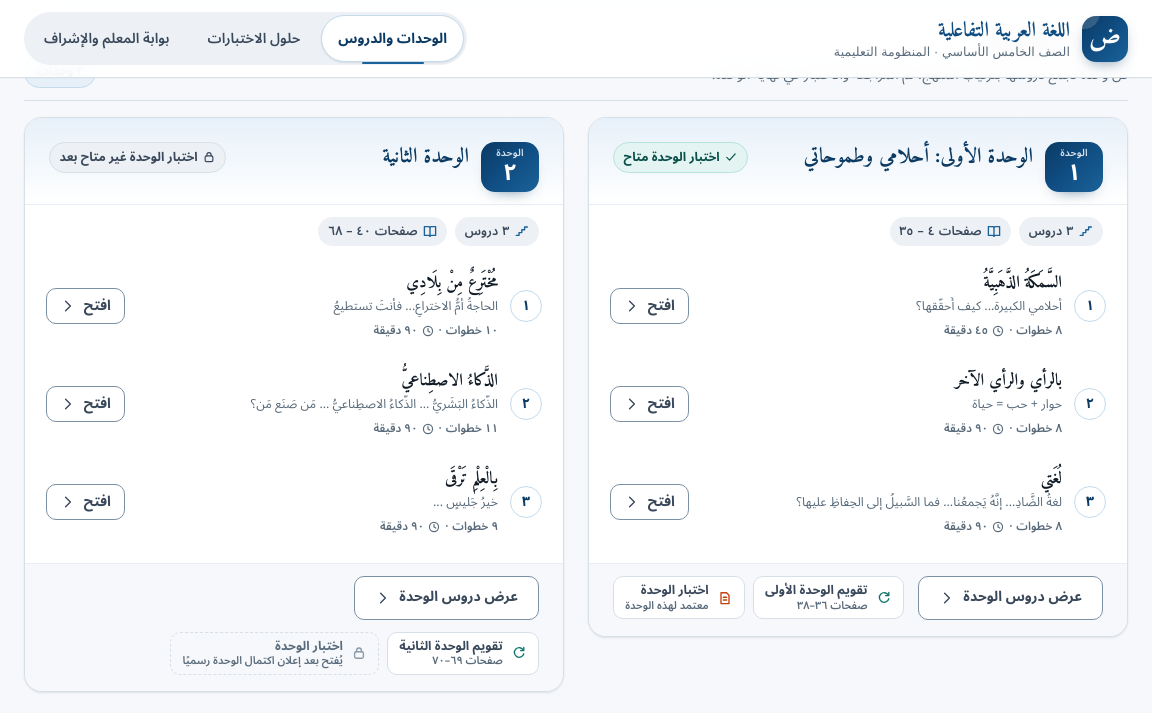
Test: Phase 1 — home page lesson entry › opens the exact lesson when its row button is pressed from the home page
(page scrolled)
Expected: the navigation bar "خطوات الدرس" is not shown
Note: Press the second lesson's row button in the first unit panel.
What coordinates should you click on to do the following:
click the button with aria-label "افتح الدرس 2: بالرأي والرأي الآخر"
I would click on:
 (649, 404)
Its box is x1=610 y1=386 x2=689 y2=422.
(page scrolled)
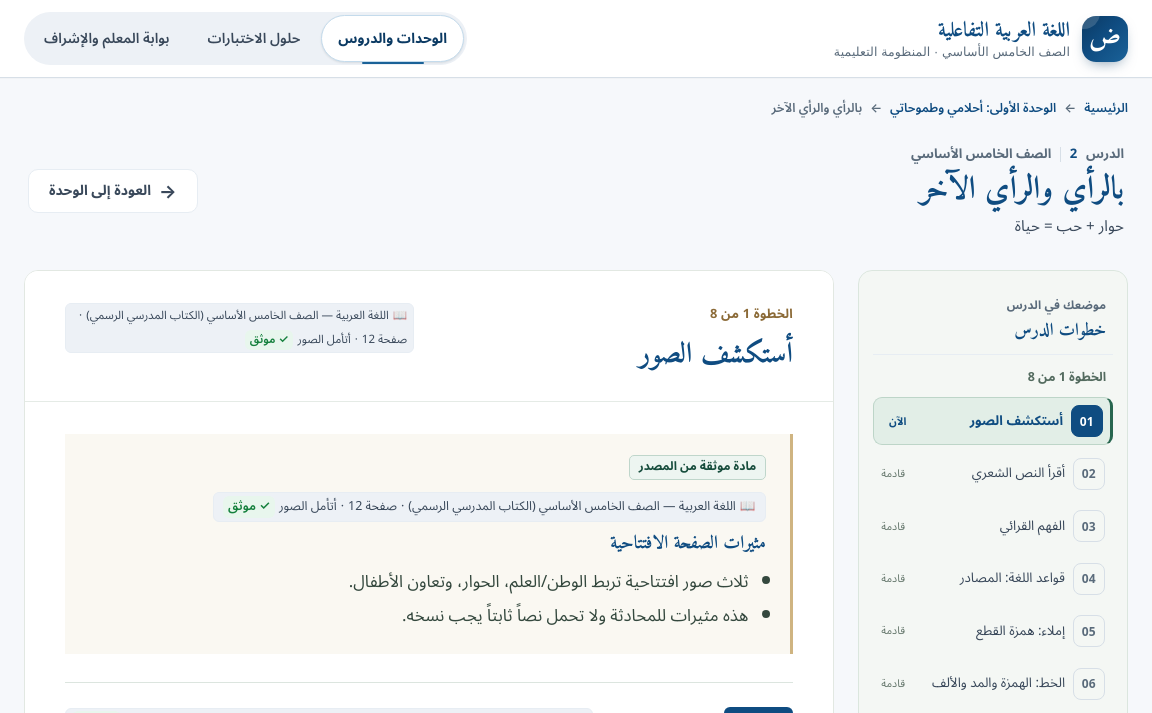
Expected: the heading "بالرأي والرأي الآخر" is shown, x1=920 y1=170 x2=1124 y2=212
Expected: the number of buttons "01 أستكشف الصور الآن" is 8
